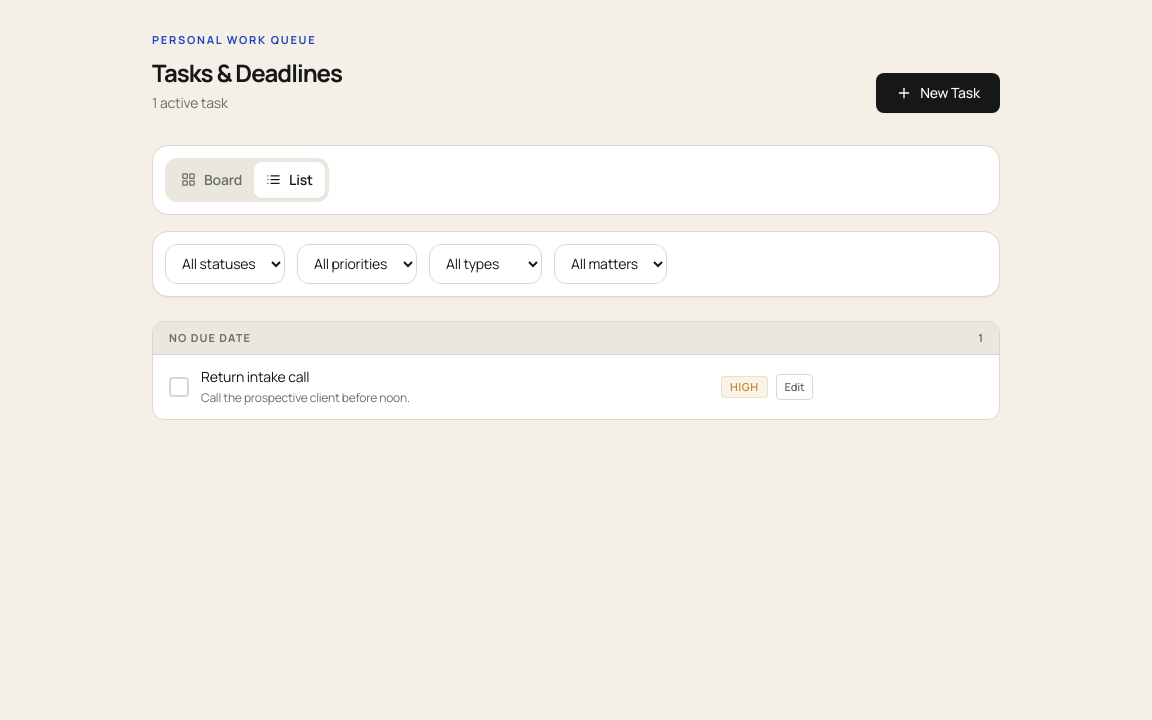
Test: TasksPage accessibility › keeps edit inputs and shows the API error when correction fails
expect the text "Return intake call" is shown: met, box [201,367,309,386]
Click the button with aria-label "Edit task: Return intake call": point(795, 387) [776,374,814,400]
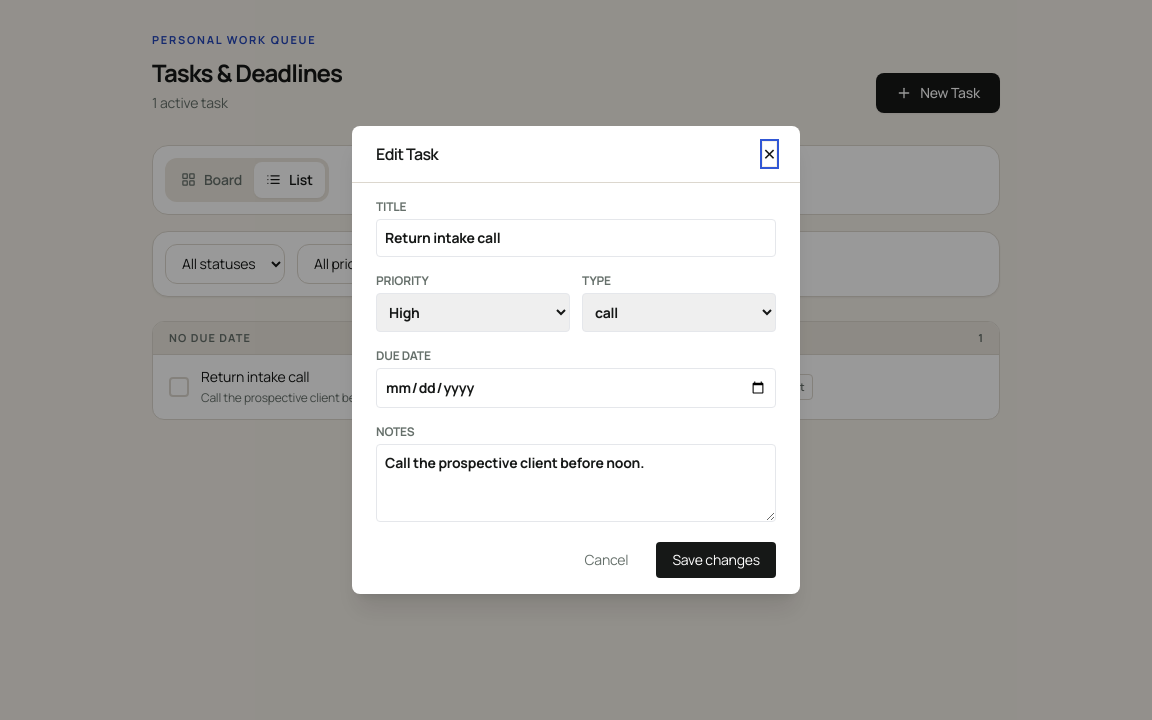
Replace the text in the field named "Task title" with "Corrected title": point(576, 238) [376,219,776,257]
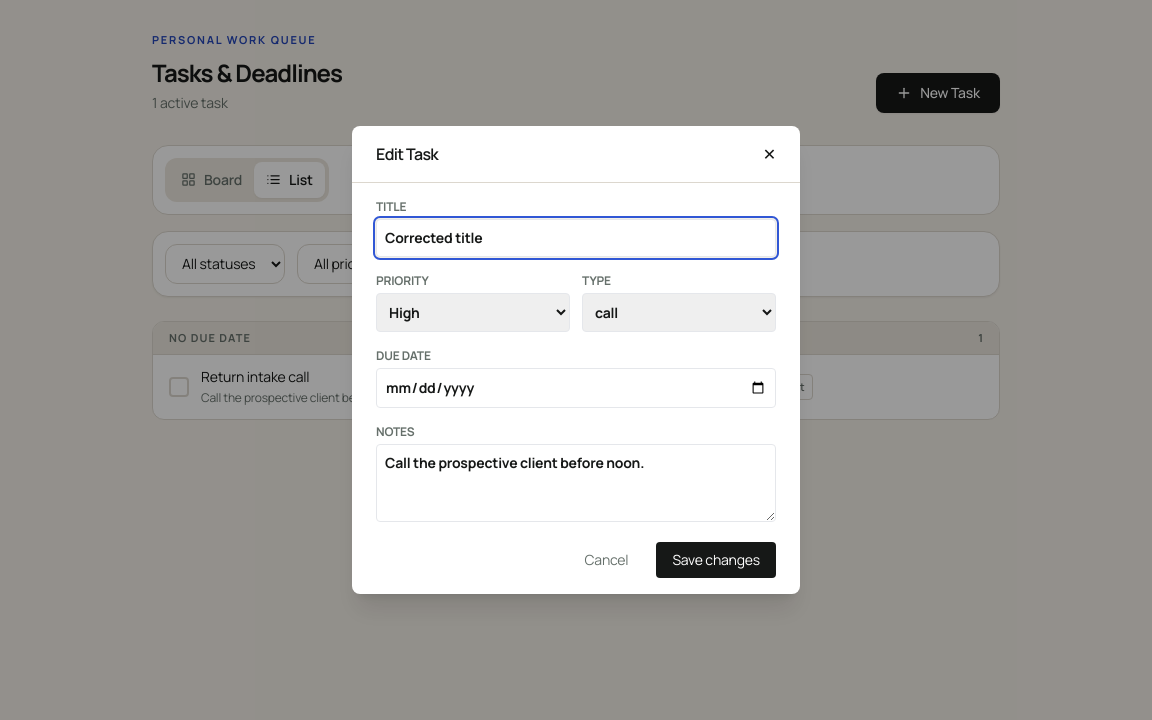
Click the button "Save changes": point(716, 560) [656,542,776,578]
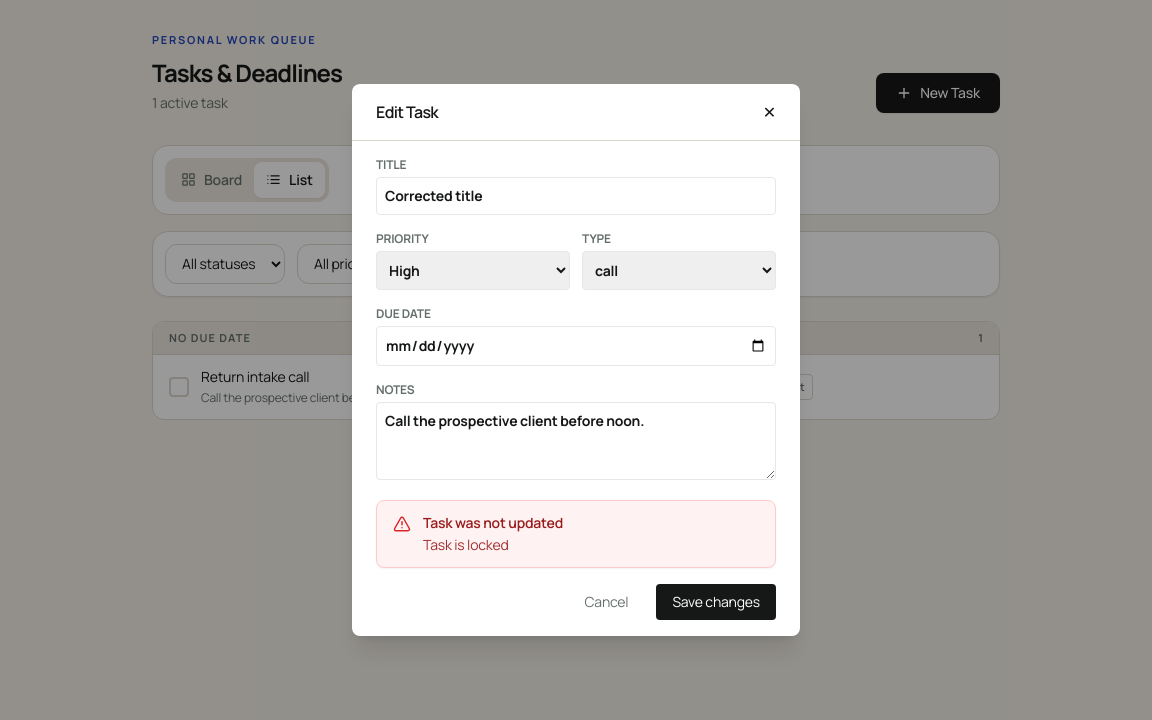
expect the button "Save changes" is enabled: met, box [656,584,776,620]
expect the message shows "Task is locked": met, box [423,535,509,554]
